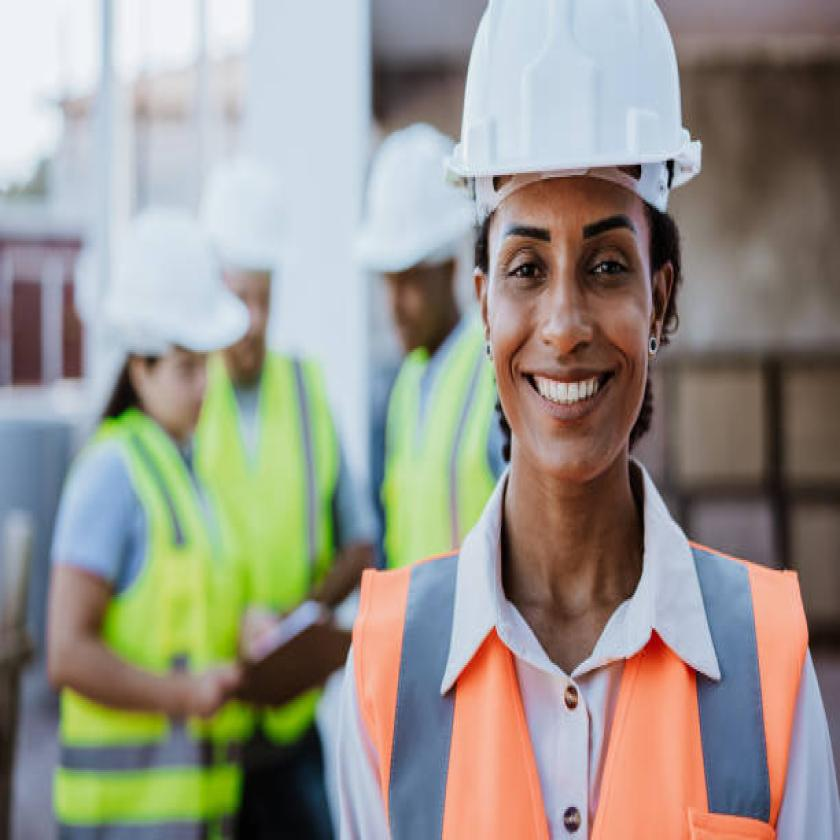Con_casco: (456, 0, 702, 524), (99, 195, 246, 446), (358, 112, 469, 366)
